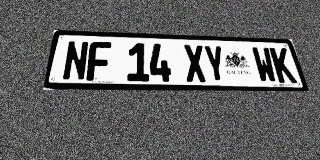1: (127, 43, 149, 81)
4: (149, 43, 172, 82)
F: (86, 41, 111, 81)
K: (269, 47, 297, 83)
N: (62, 41, 89, 81)
W: (251, 47, 278, 83)
X: (183, 45, 207, 82)
Y: (203, 45, 228, 82)
